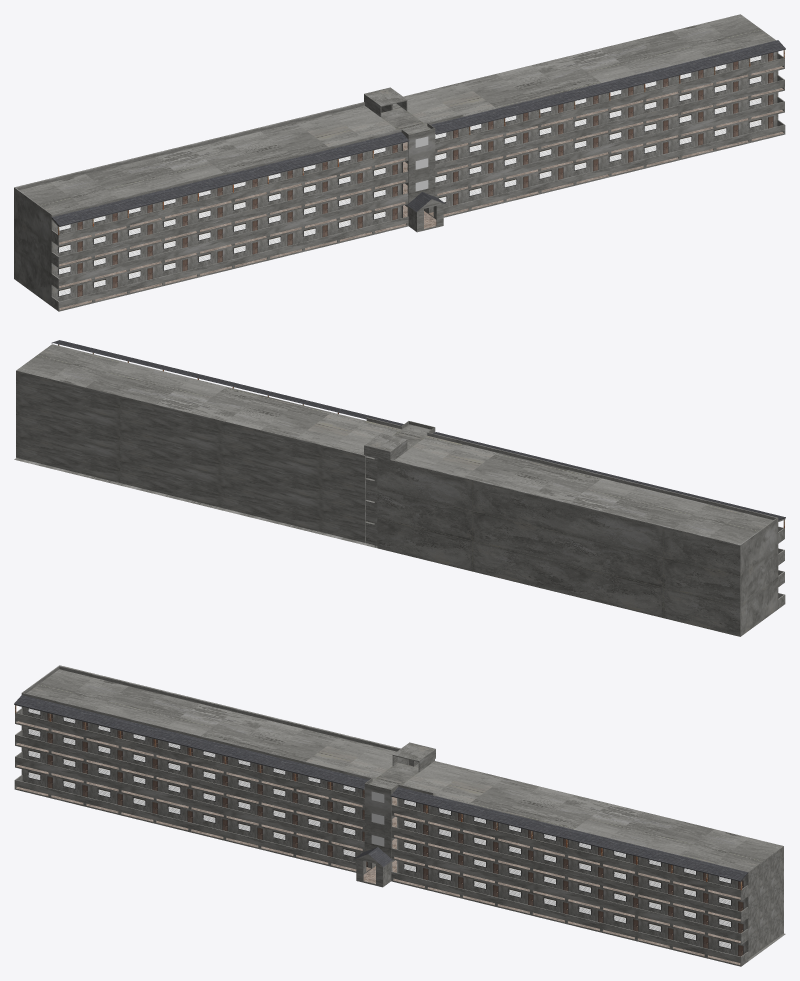
Rendered from Building2.fbx.
3 renders of one model, top to bottom at view 1: azimuth 30°, elevation 25°; view 2: azimuth 150°, elevation 25°; view 3: azimuth 330°, elevation 25°, orthographic.
Visible parts, largest first — view 1: Circle.082; view 2: Circle.082; view 3: Circle.082.
Boxes of the visible parts, <box> form: Circle.082: <box>14,14,785,311</box>; Circle.082: <box>14,340,785,636</box>; Circle.082: <box>14,665,785,966</box>.
Size of the model in its own units: 55844 by 7325 by 7267.
Materials: 9 (6 with a texture image).
